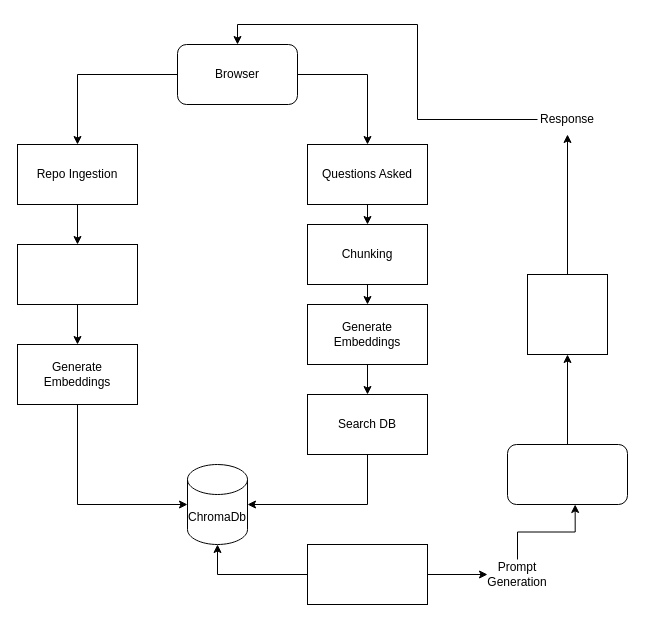
This 645x622 diagram has some shape labels left out. Each missing label, with the centre of its shape:
FastAPI: point (567, 314)
Parse and chunking: point (77, 274)
Retrive mapping Data: point (367, 574)
Send To claude API: point (567, 474)
